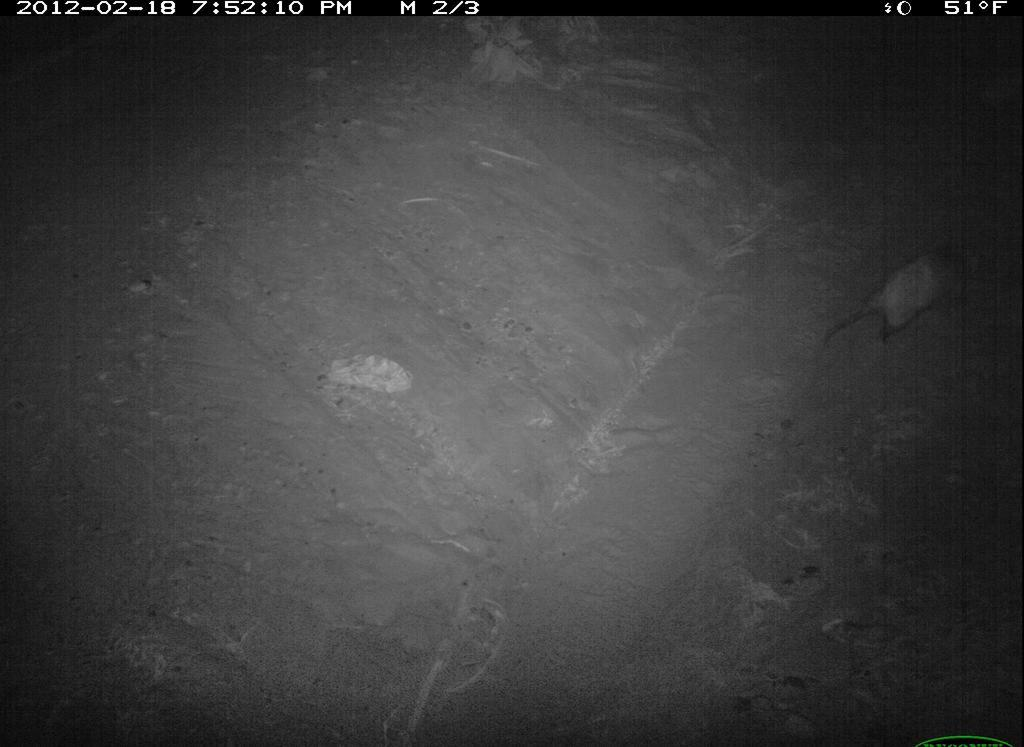opossum: (811, 232, 1005, 368)
